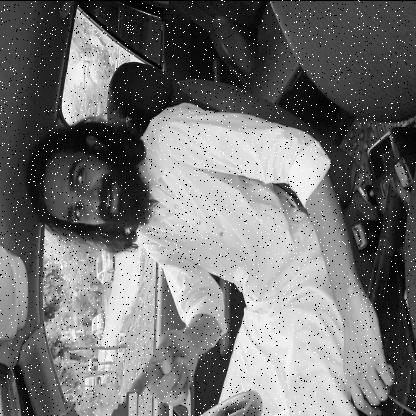no_seatbelt: (28, 138, 292, 272)
